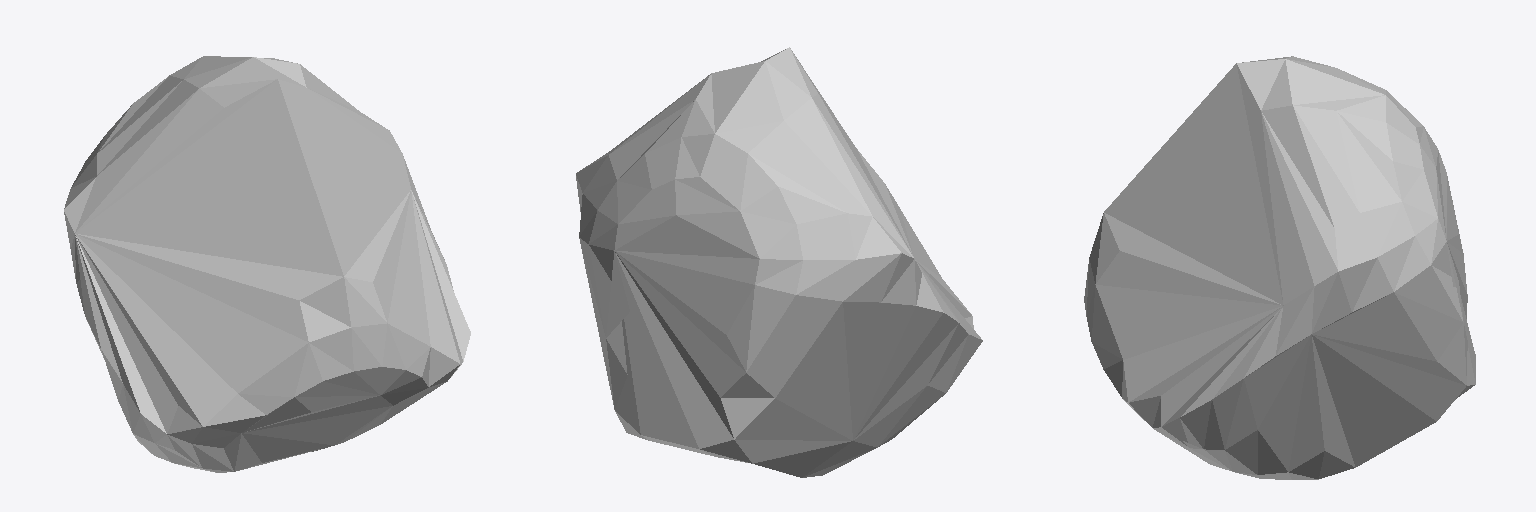
Rendered from rock2.obj.
3 renders of one model, left to right at view 1: azimuth 30°, elevation 25°; view 2: azimuth 150°, elevation 25°; view 3: azimuth 270°, elevation 25°, orthographic.
Visible parts, largest first — view 1: Sphere_Sphere.001; view 2: Sphere_Sphere.001; view 3: Sphere_Sphere.001.
Boxes of the visible parts, <box> form: Sphere_Sphere.001: <box>64,56,470,472</box>; Sphere_Sphere.001: <box>576,47,982,477</box>; Sphere_Sphere.001: <box>1084,56,1475,479</box>.
Size of the model in its own units: 0.7967 by 0.8653 by 0.7795.